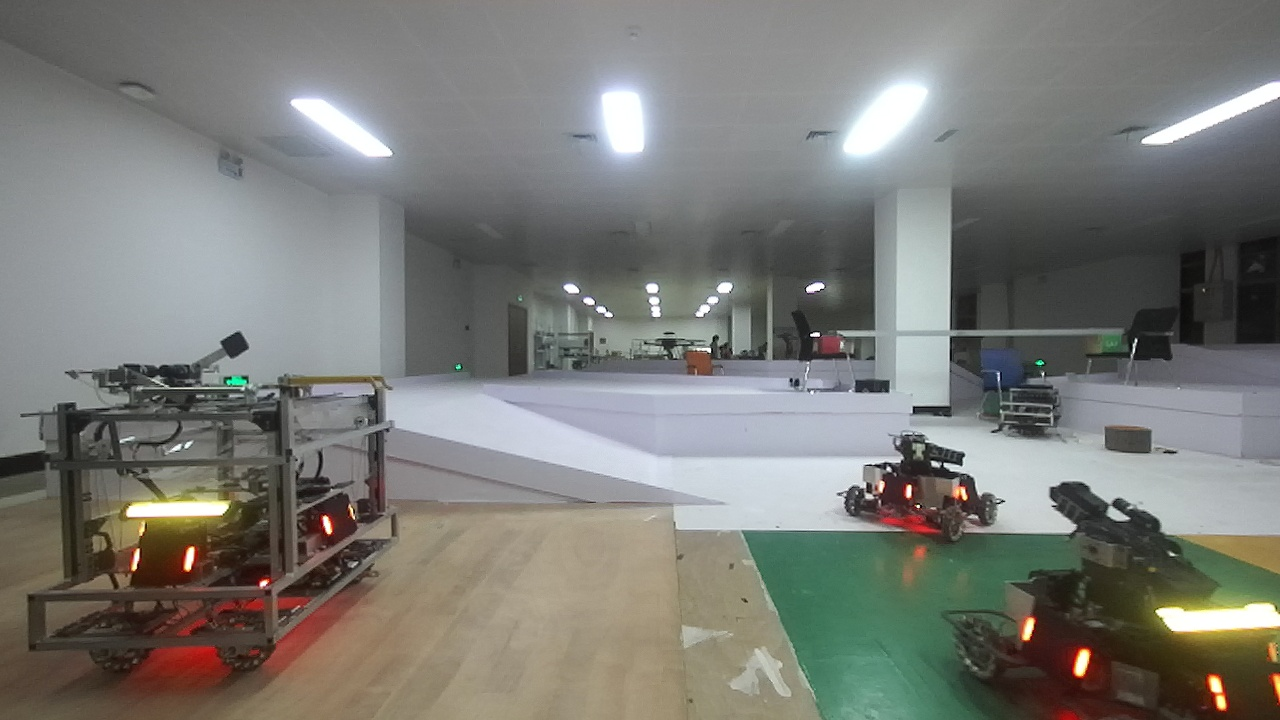car: (7, 338, 400, 691), (977, 474, 1280, 720), (832, 421, 1012, 556)
